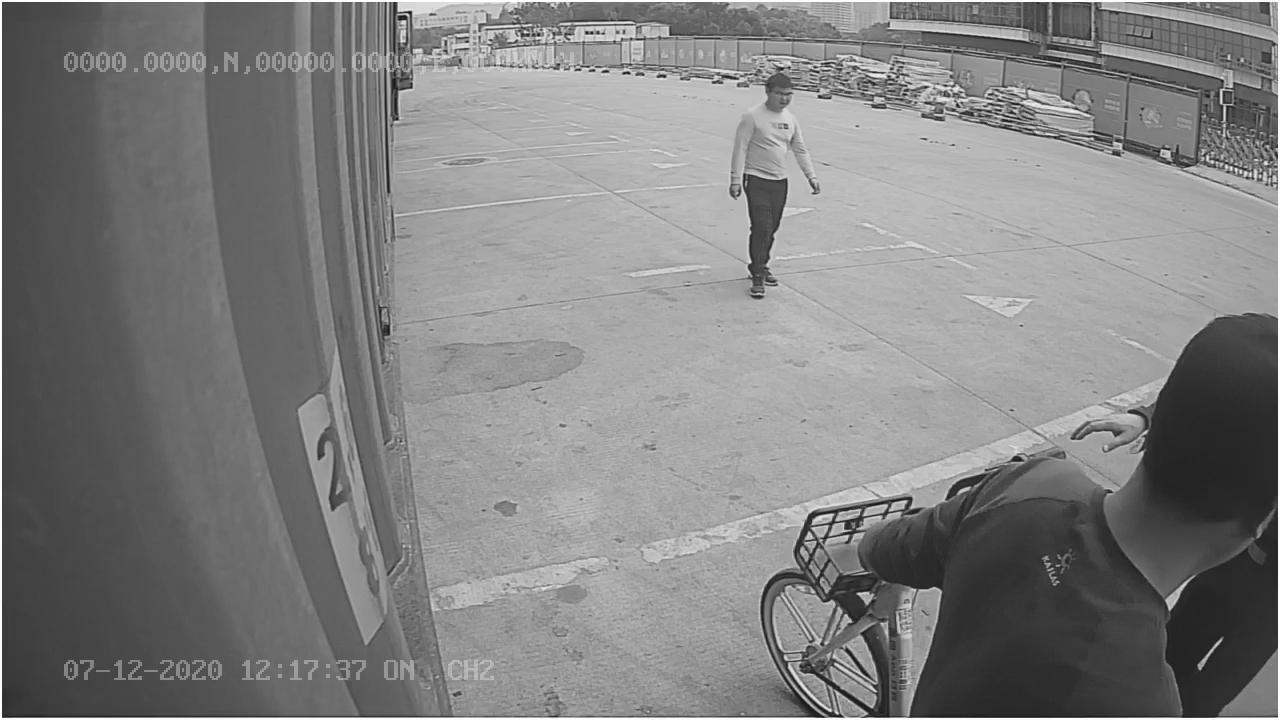person: (726, 69, 815, 298)
